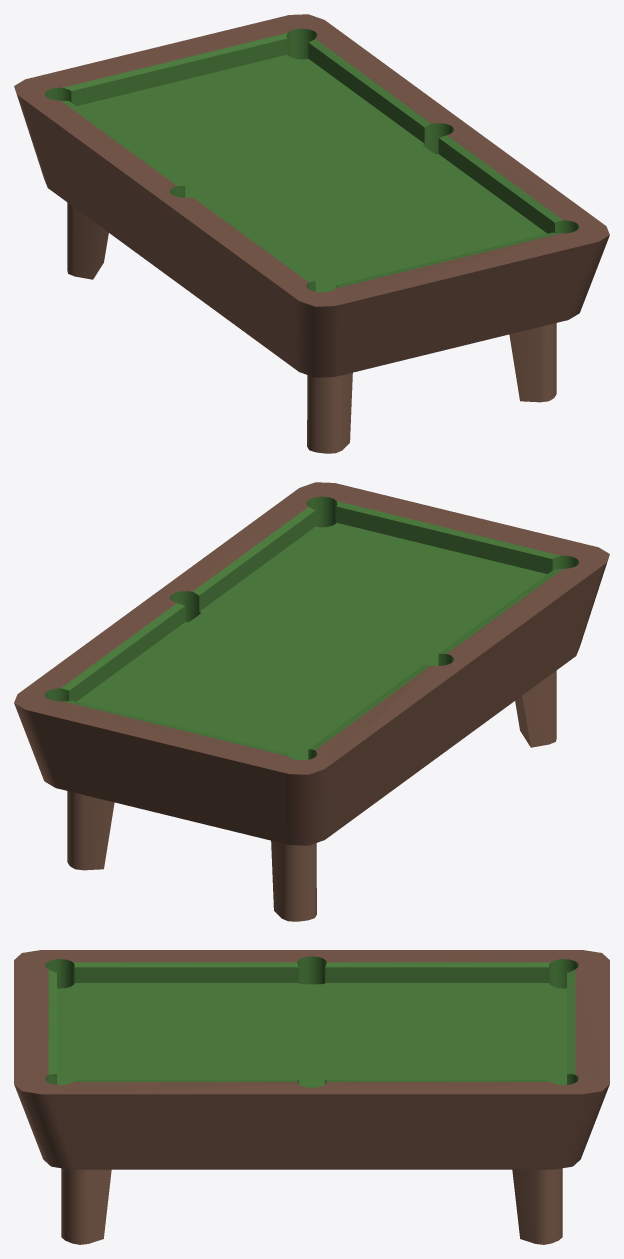
The model's file is SM_Props_Pool_01.fbx.
3 renders of one model, top to bottom at view 1: azimuth 30°, elevation 25°; view 2: azimuth 150°, elevation 25°; view 3: azimuth 270°, elevation 25°, orthographic. The views are drawn at different scales.
Visible parts, largest first — view 1: SM_Props_Pool_01; view 2: SM_Props_Pool_01; view 3: SM_Props_Pool_01.
Boxes of the visible parts, left/top/right/bottom form: SM_Props_Pool_01: left=14, top=14, right=609, bottom=453; SM_Props_Pool_01: left=14, top=482, right=609, bottom=921; SM_Props_Pool_01: left=14, top=950, right=609, bottom=1244.
Size of the model in its own units: 1.5 by 0.8 by 2.62.
